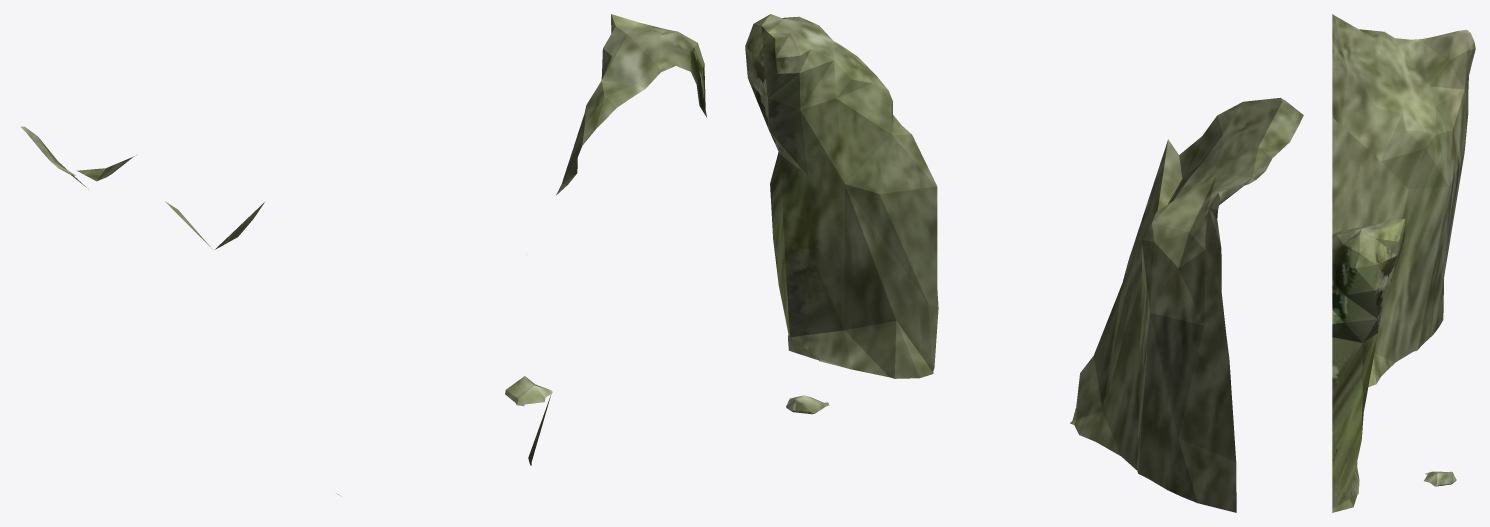
3 views of the same model, side by side, from view 1: azimuth 30°, elevation 25°; view 2: azimuth 150°, elevation 25°; view 3: azimuth 270°, elevation 25° (orthographic). The views are drawn at different scales.
Bounding box in the file's own units: 2.6 × 1.66 × 0.7243.
1 material, 1 textured.
